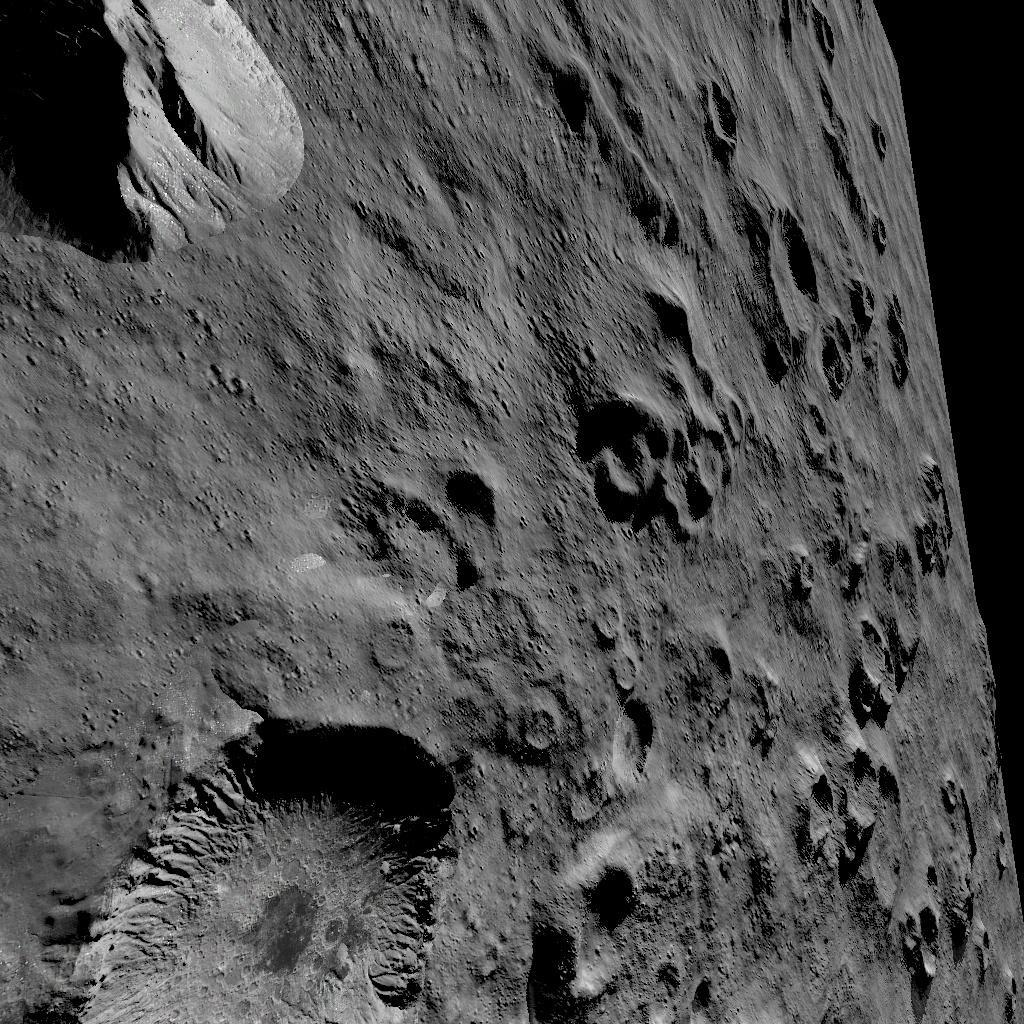Boulders: (0, 0, 327, 283)
Crater: (0, 710, 493, 1024), (793, 740, 993, 1000), (789, 518, 967, 729), (587, 390, 767, 556), (518, 852, 656, 1024), (359, 470, 519, 594), (595, 598, 669, 784), (757, 202, 820, 380), (833, 280, 930, 392), (701, 68, 754, 154), (367, 610, 426, 682), (796, 402, 848, 472), (803, 0, 856, 67), (525, 700, 572, 762), (867, 108, 908, 164), (871, 208, 912, 257), (925, 452, 964, 502)
Plan surface: (3, 288, 336, 697), (351, 4, 570, 454)
